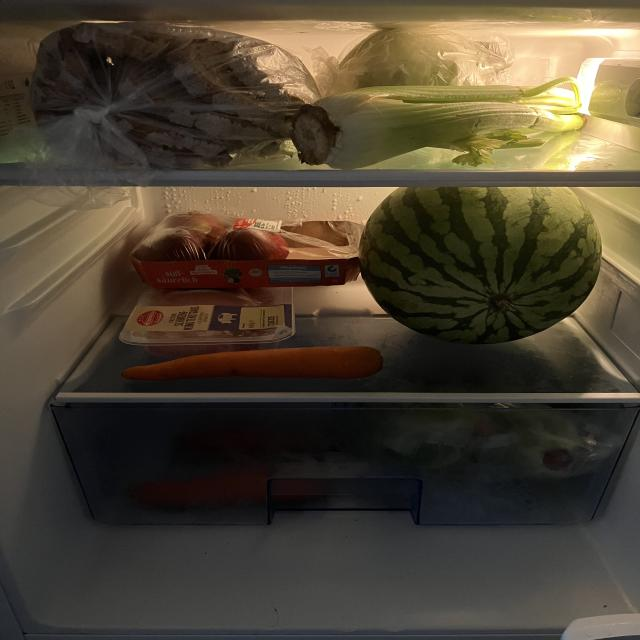Apples: (134, 199, 358, 285)
Celery: (290, 82, 613, 160)
Pork: (131, 290, 294, 345)
Vegetable: (384, 400, 627, 487)
Watermelon: (364, 183, 613, 344)
bread: (26, 20, 306, 170)
cabbage: (321, 20, 508, 87)
carrot: (92, 338, 409, 384), (104, 465, 330, 507)
